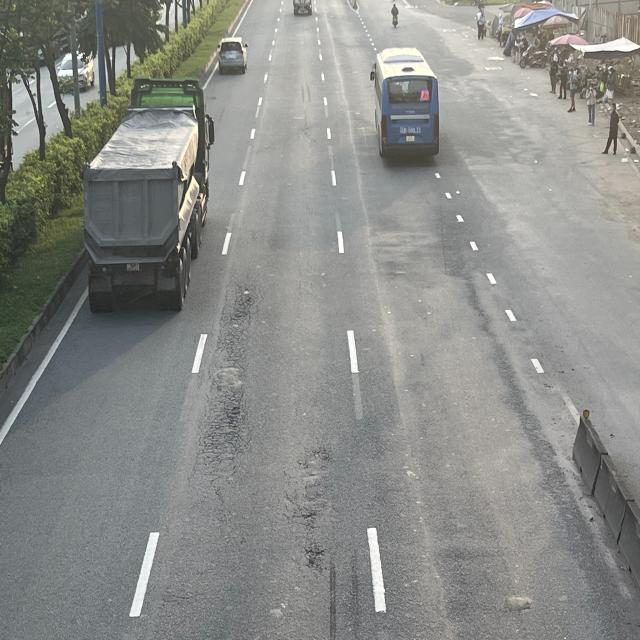car: (217, 39, 248, 77)
coach: (368, 49, 439, 160)
container: (84, 83, 214, 310)
